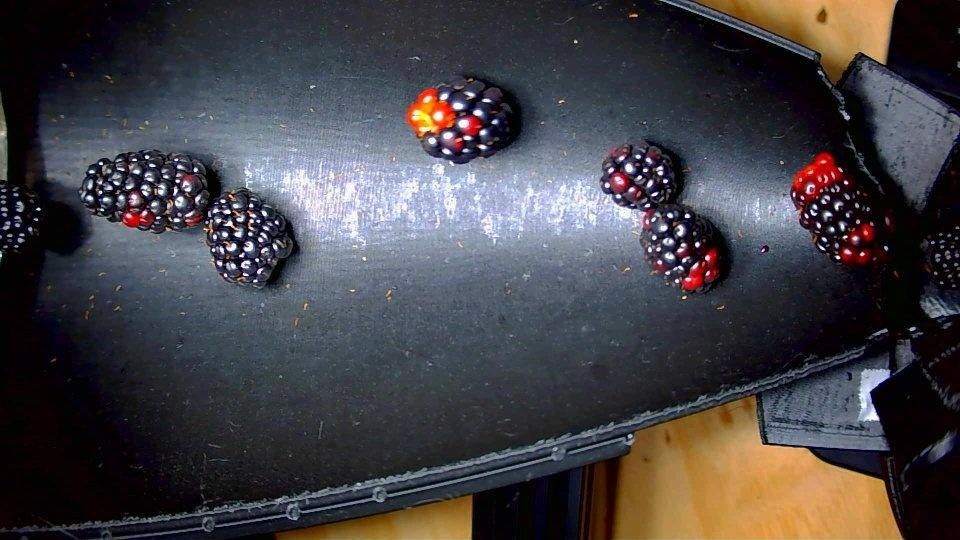berry: (790, 154, 891, 266), (78, 150, 209, 233), (406, 77, 512, 163), (205, 188, 293, 286), (640, 204, 724, 292), (601, 140, 677, 210), (0, 180, 41, 253), (926, 225, 959, 289)
